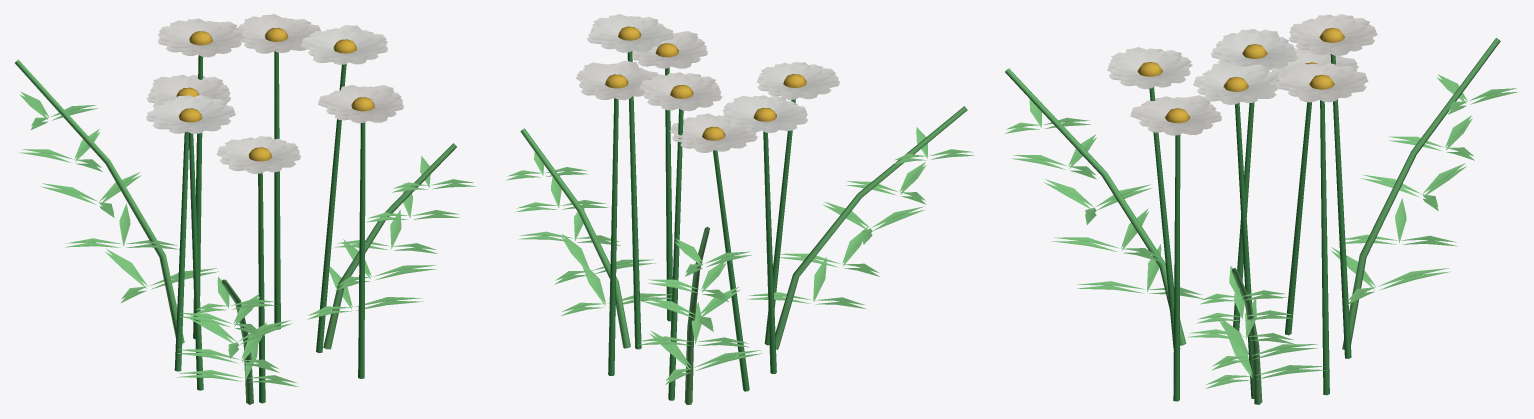
File: ing_chamomile.gltf
The picture shows the model from 3 angles, left to right: view 1: azimuth 30°, elevation 25°; view 2: azimuth 150°, elevation 25°; view 3: azimuth 270°, elevation 25°; orthographic projection. The views are drawn at different scales.
Parts seen in each view (by area): view 1: ing_chamomile; view 2: ing_chamomile; view 3: ing_chamomile.
Part boxes in pixels (bbox=[...]): ing_chamomile: bbox=[15, 14, 475, 404]; ing_chamomile: bbox=[506, 14, 974, 404]; ing_chamomile: bbox=[1005, 14, 1519, 404].
Size of what is drawn, in the model's own units: 0.3026 by 0.2496 by 0.3542.
